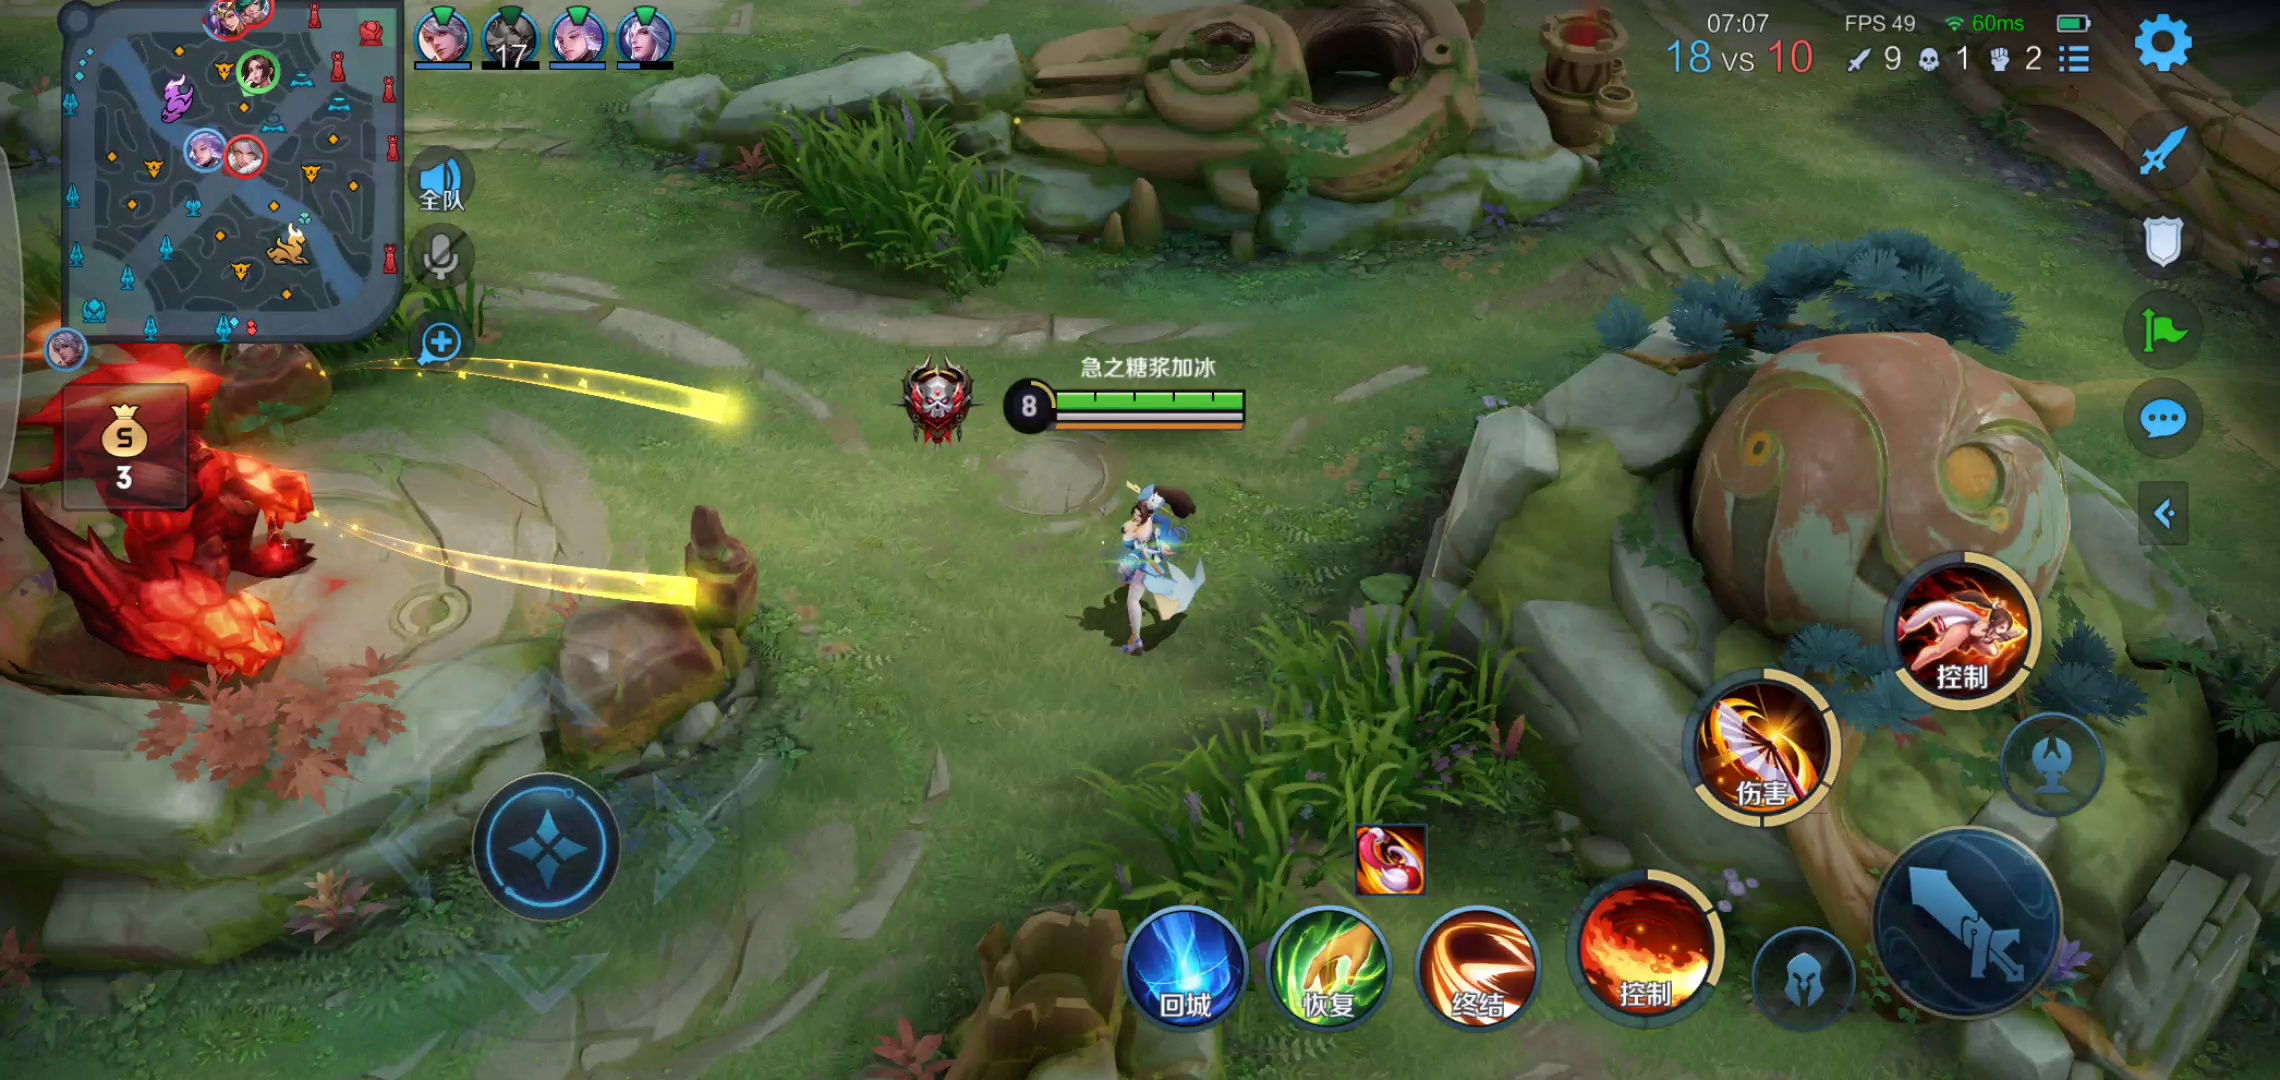buff: (36, 371, 316, 688)
grass: (1080, 637, 1518, 898), (742, 92, 1031, 279)
hero: (1064, 477, 1229, 626)
